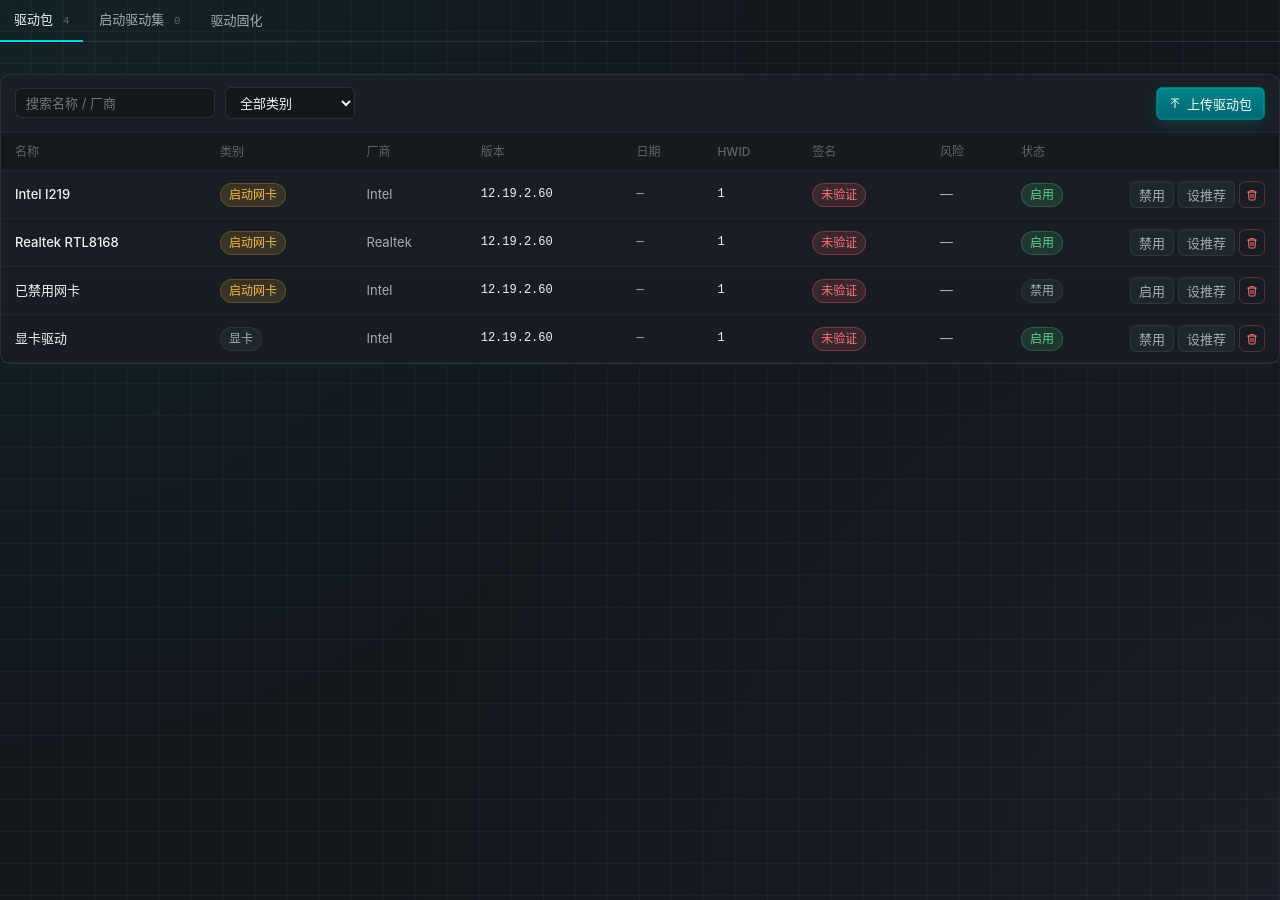
Test: 驱动中心 › 列出驱动包并按名称/厂商搜索
Expected: the text "Intel I219" is shown, [15,185,70,204]
In the field with placeholder "搜索名称 / 厂商": (115, 103) [15,88,215,118], type "realtek"
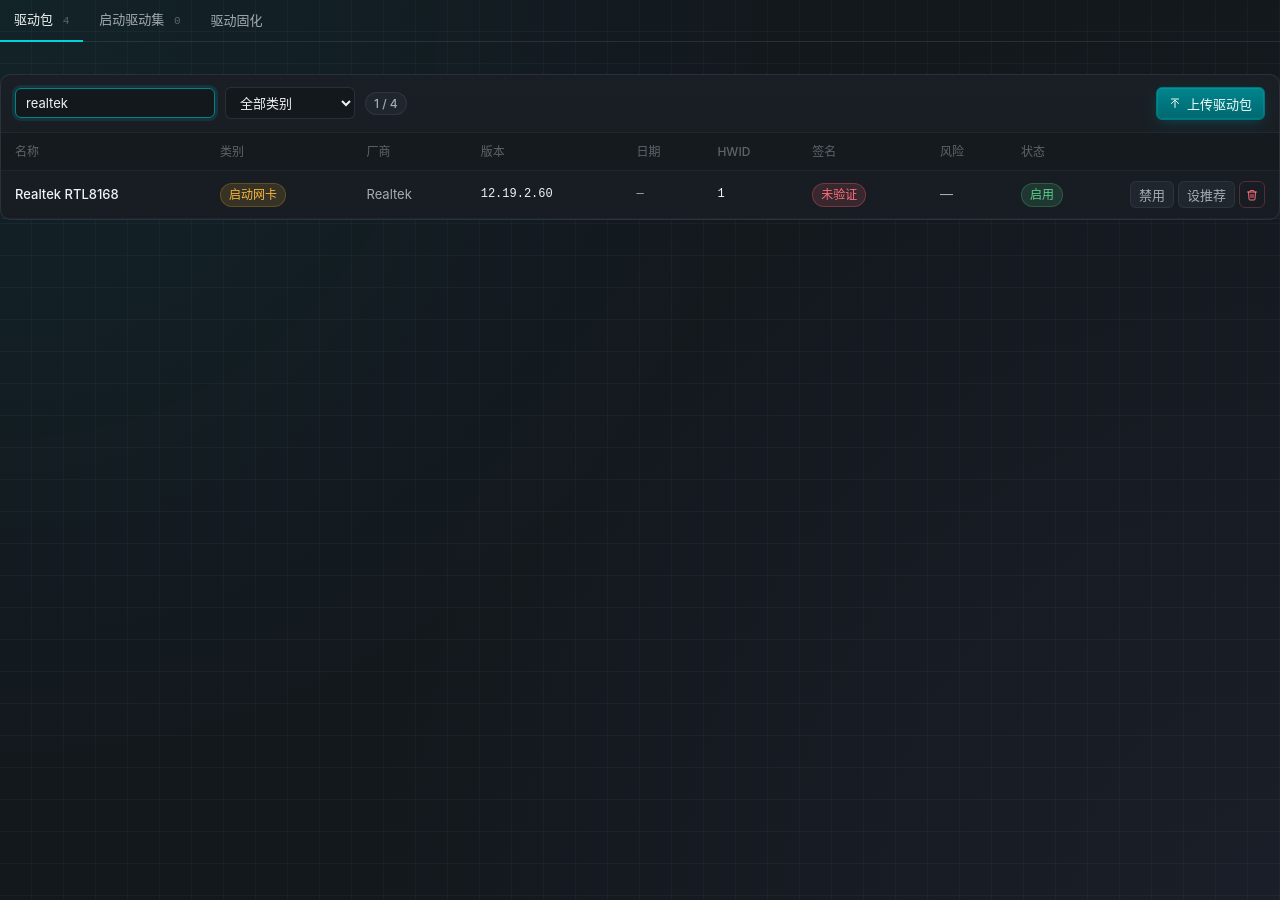
Expected: the text "Realtek RTL8168" is shown, [15,185,119,204]
Expected: the text "Intel I219" is gone
